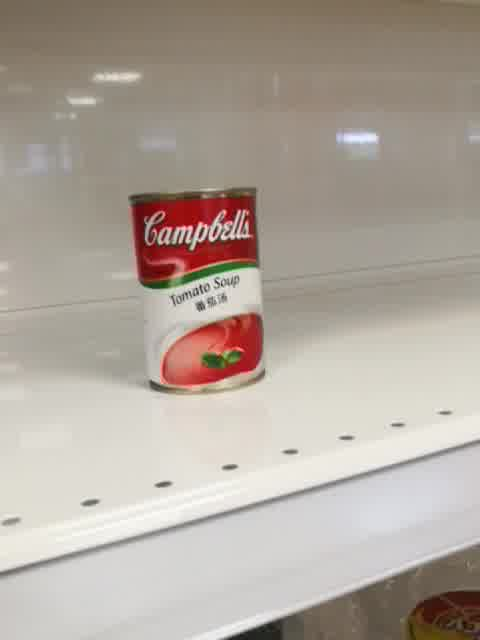tomatosoup: (127, 185, 268, 396)
